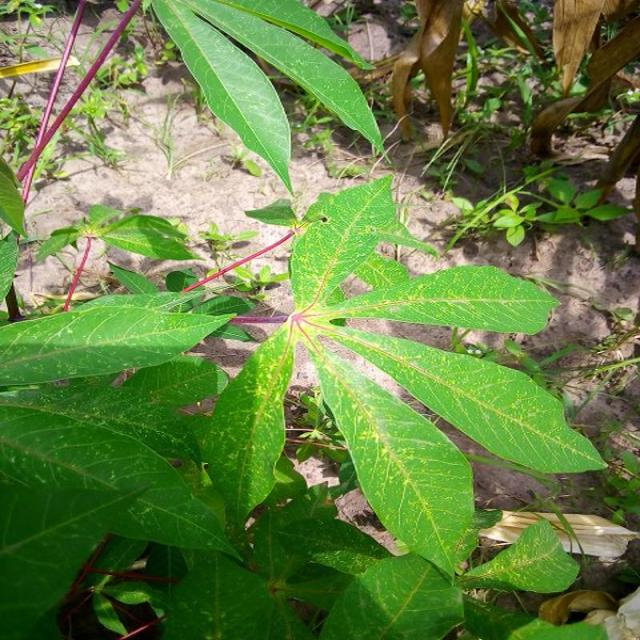cassava leaf: (194, 172, 608, 581), (1, 401, 243, 638), (150, 0, 386, 195), (312, 337, 479, 581), (1, 290, 237, 388)
